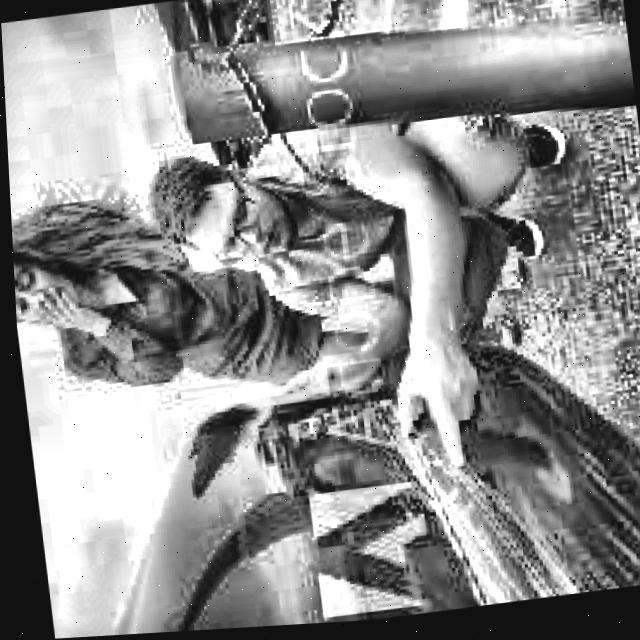bumper_scratch: (399, 421, 578, 614)
